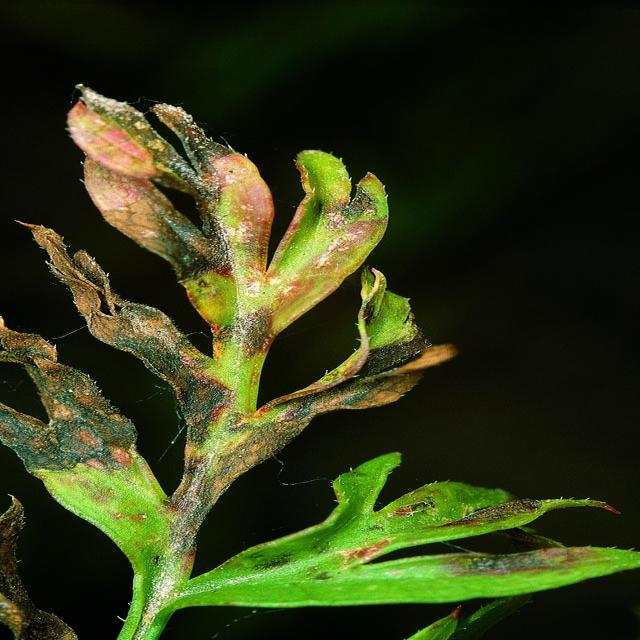blight: (57, 88, 212, 237)
